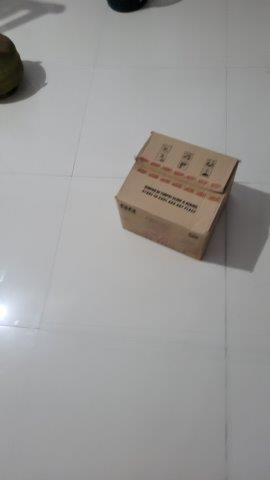kardus: (115, 133, 241, 262)
